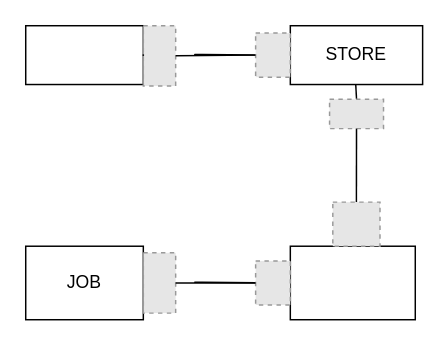
Some shapes in this 448 by 345 pixel diagram are drawn without their labels. Grey dashed boxes stand in for pictures. Each missing label, with the centre of its shape:
"EMPLOYEE" goes at [352,282].
"REGION" goes at [83,54].
